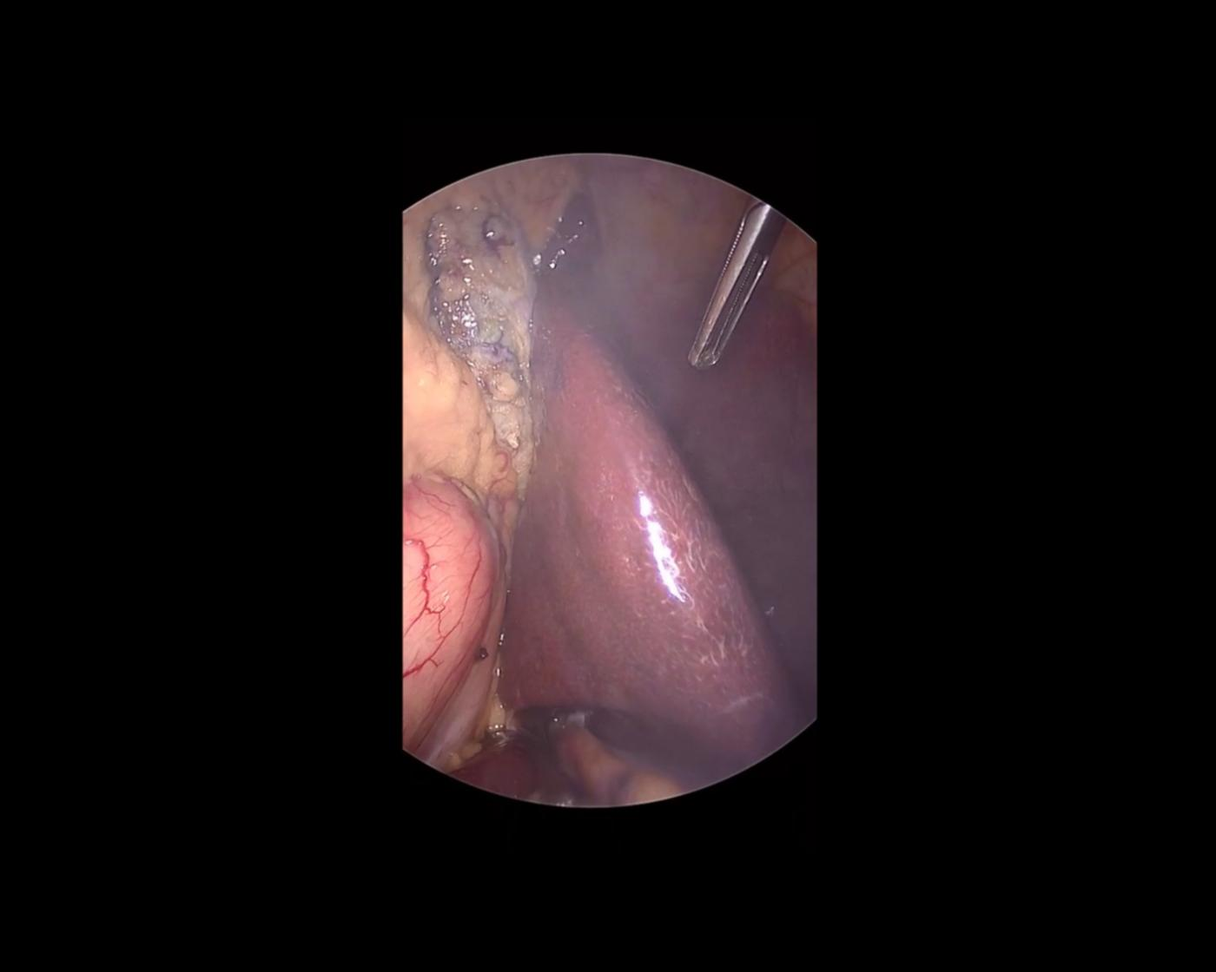Forceps: (671, 196, 787, 375)
Gallbladder: (423, 207, 552, 510)
Liver: (345, 192, 808, 839)
